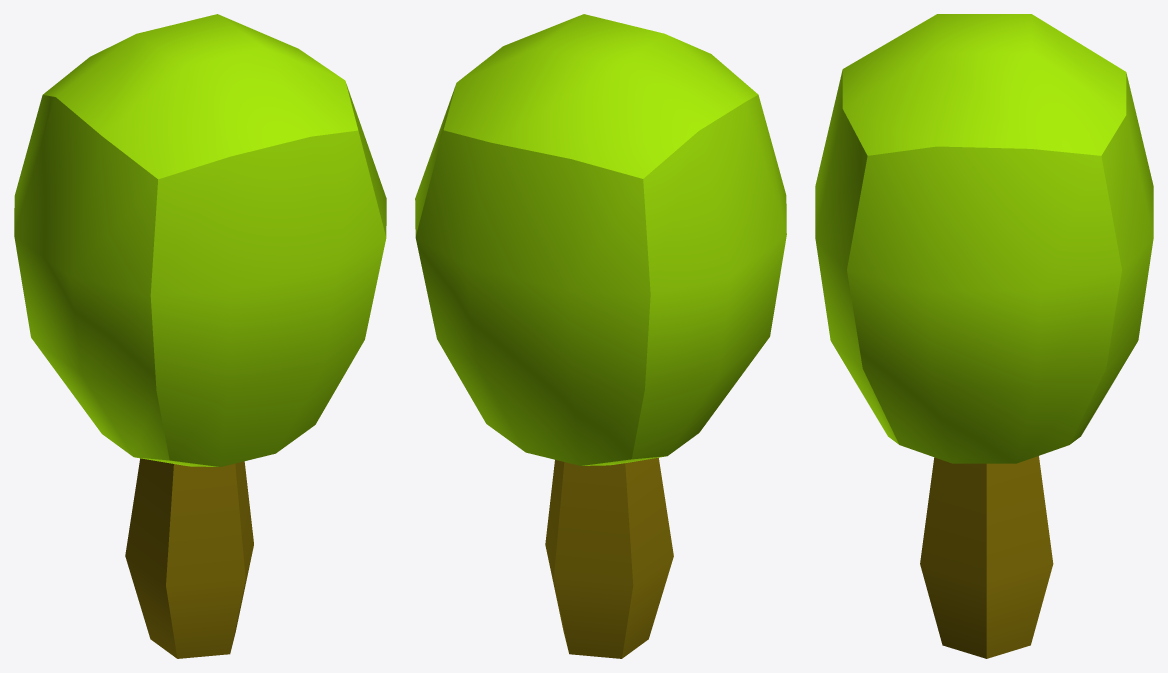
The model's file is tree3.fbx.
3 renders of one model, left to right at view 1: azimuth 30°, elevation 25°; view 2: azimuth 150°, elevation 25°; view 3: azimuth 270°, elevation 25°, orthographic.
Parts seen in each view (by area): view 1: pCube6; view 2: pCube6; view 3: pCube6.
Boxes of the visible parts, bbox=[...] form: pCube6: bbox=[14, 14, 386, 658]; pCube6: bbox=[415, 14, 786, 658]; pCube6: bbox=[815, 14, 1153, 658].
Bounding box in the file's own units: 1.3 × 2.36 × 1.19.
